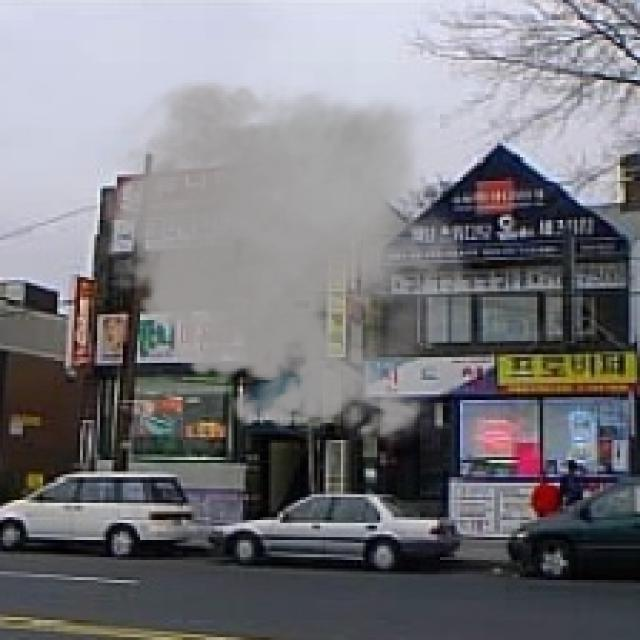smoke: (88, 66, 486, 451)
